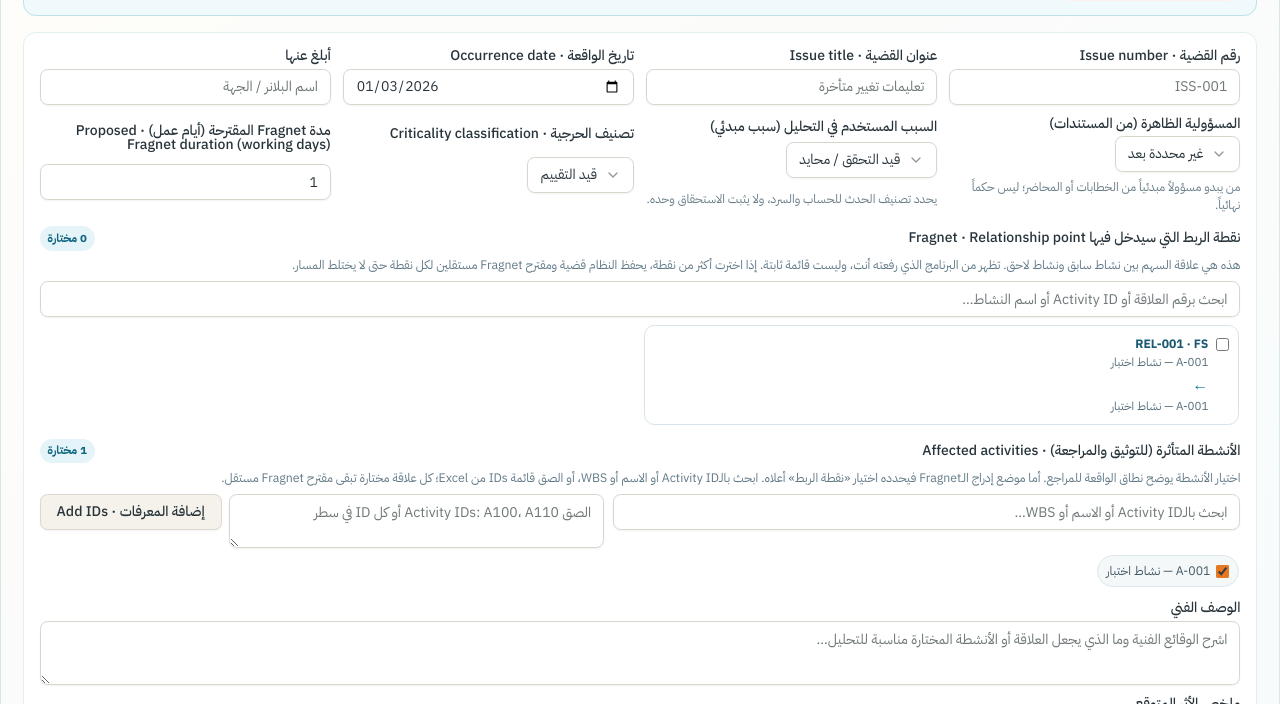
أدوات Excel في سجل القضايا › يكشف شروط الحفظ ويعرض نقاط الربط القادمة من البرنامج المستورد
(page scrolled)
Click the checkbox labelled "REL-001 · FS A-001 — نشاط اختبار ← A-001 — نشاط اختبار".
click(1222, 344)  # box [1216,338,1228,351]
(page scrolled)
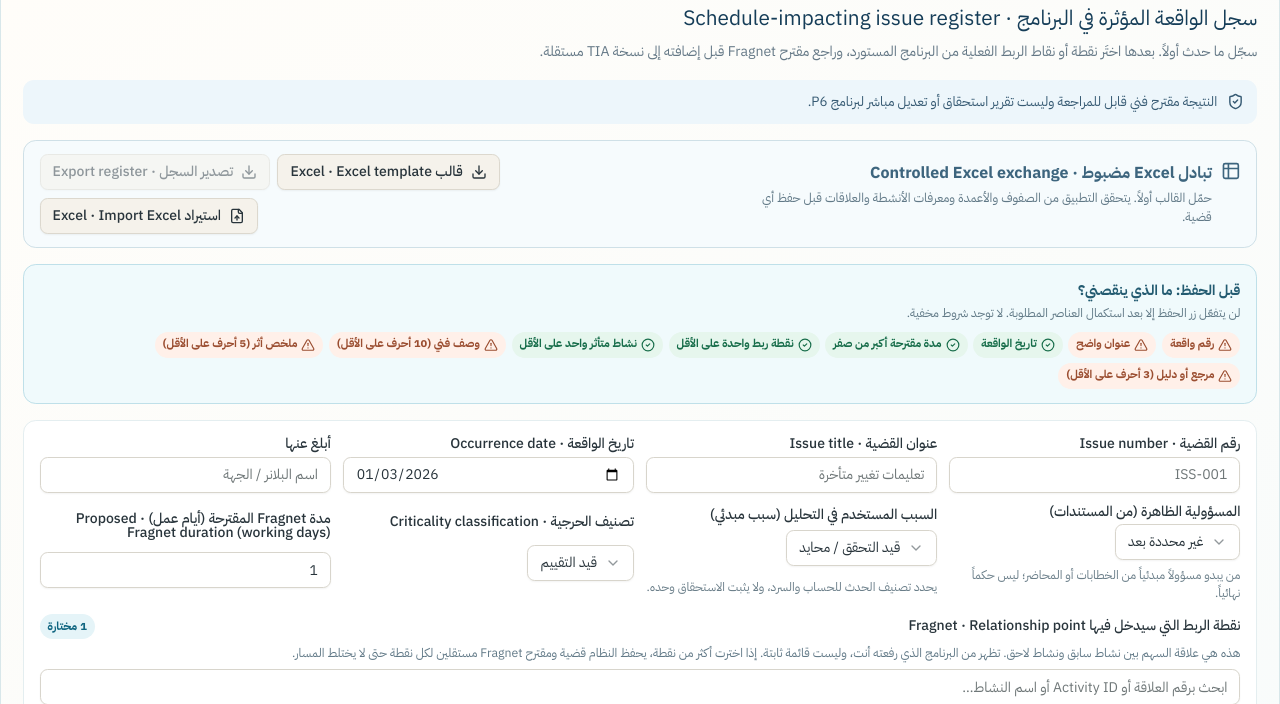
Now the text "1 مختارة" is shown, box [40,614,95,638]
